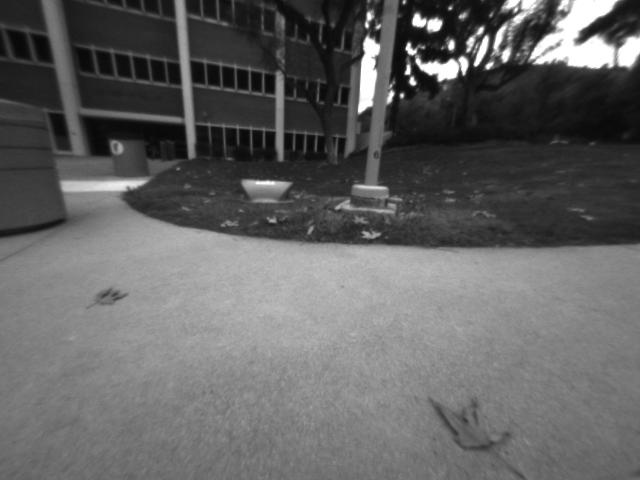trashcan: (105, 133, 152, 184)
